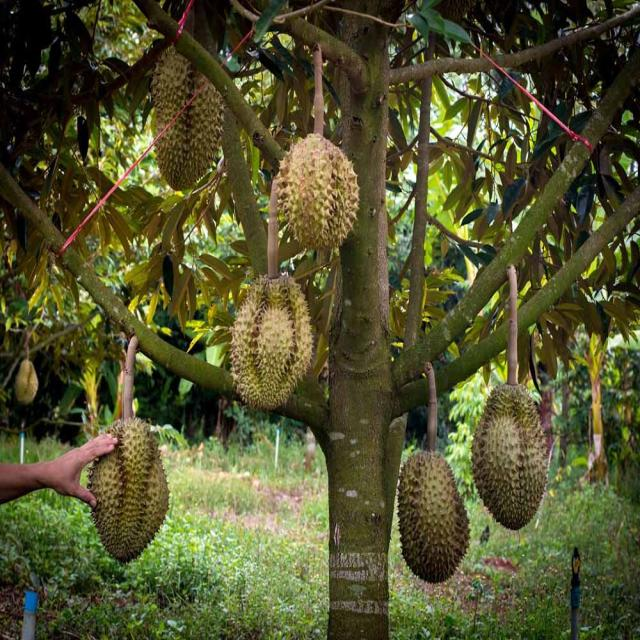mature: (91, 415, 174, 566), (471, 385, 551, 533), (232, 275, 314, 413), (273, 135, 359, 251), (397, 450, 470, 583)
